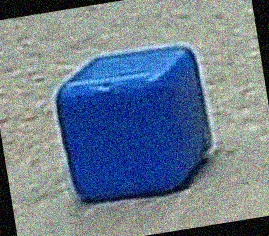blue_cube: (39, 49, 222, 211)
